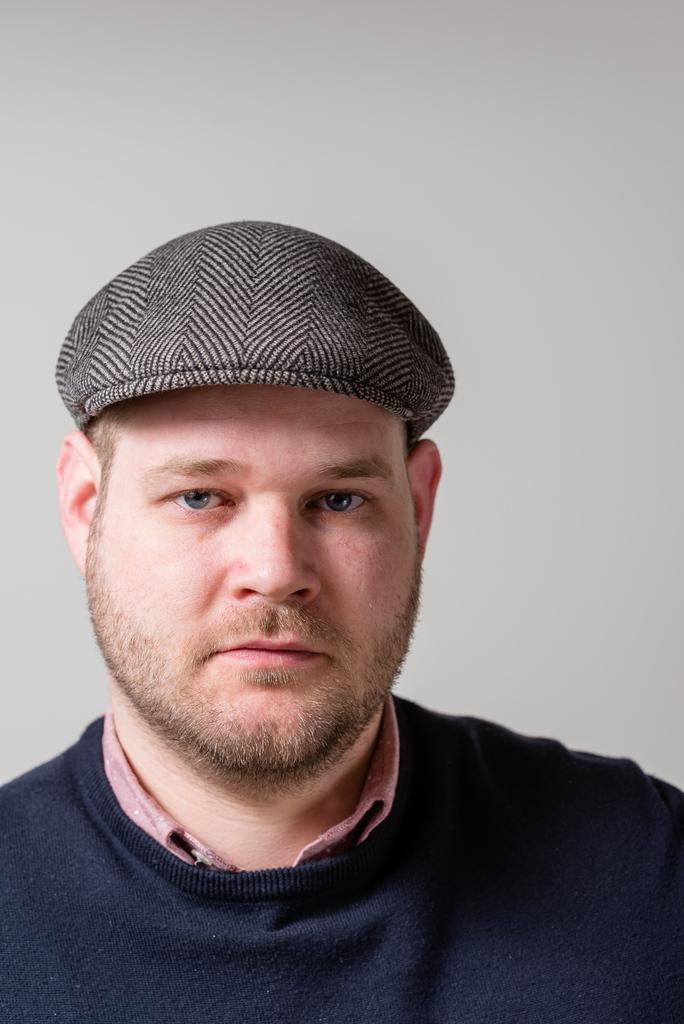Hat: (54, 217, 456, 442)
